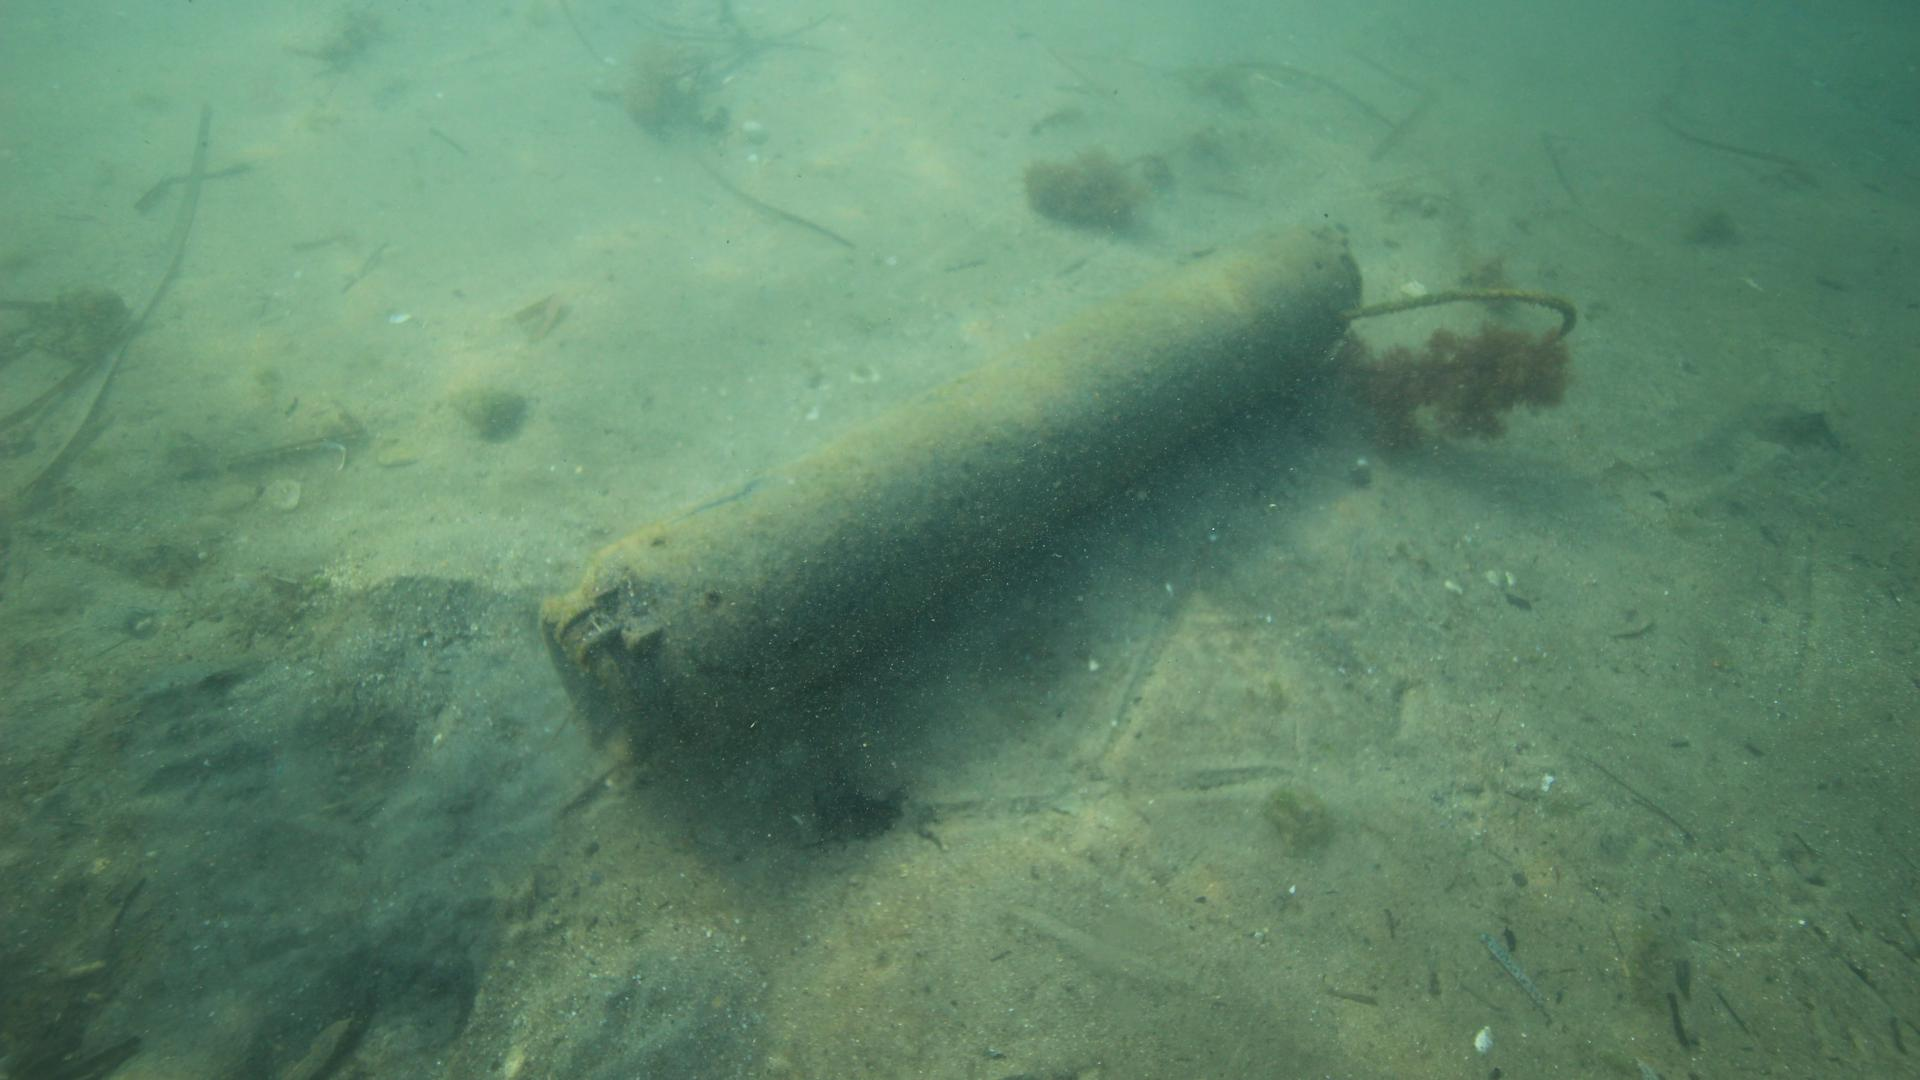eel fish trap: (541, 225, 1365, 736)
rope: (1333, 284, 1580, 377)
